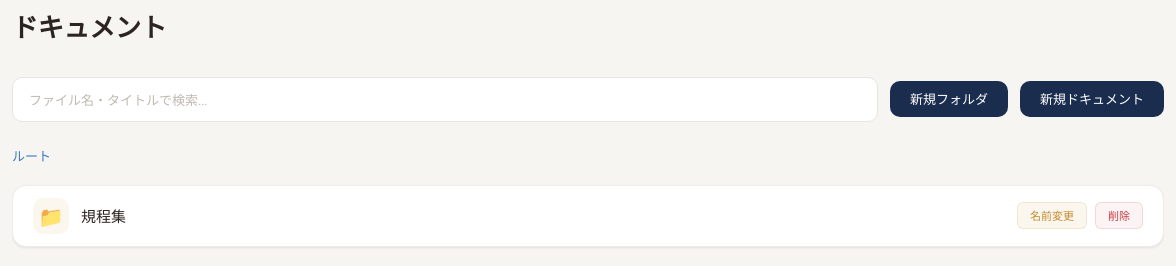
DocumentsPage › フォルダをクリックで中に入れる
Click the text "規程集" at (104, 215), box [81,204,126,226]
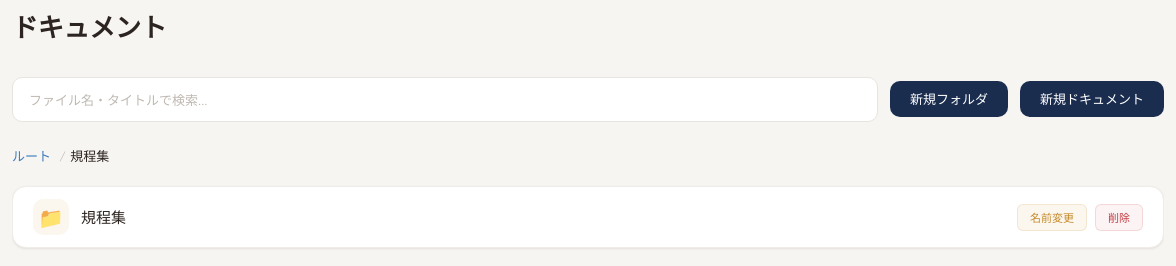
expect the element with class "breadcrumb" is shown: met, box [12,146,109,165]
expect the element with class "breadcrumb" shows "規程集": met, box [70,146,109,164]
